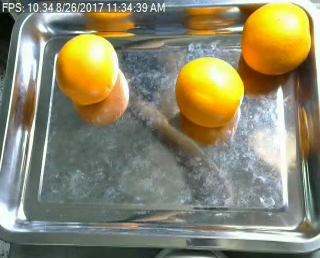Orange: (176, 57, 246, 126), (241, 4, 310, 74), (55, 34, 119, 104)
